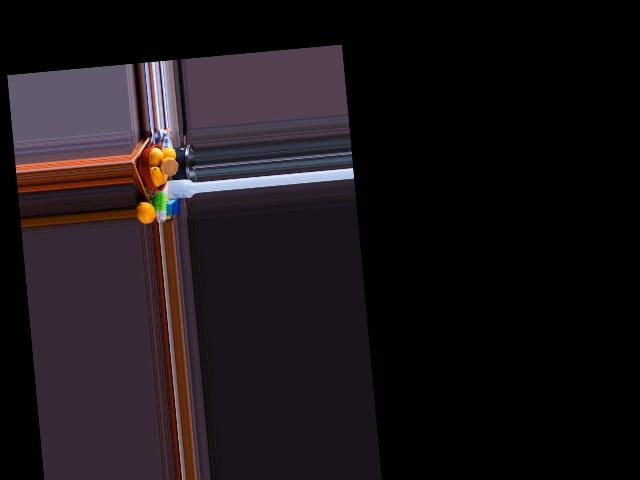lemon: (134, 199, 155, 224)
